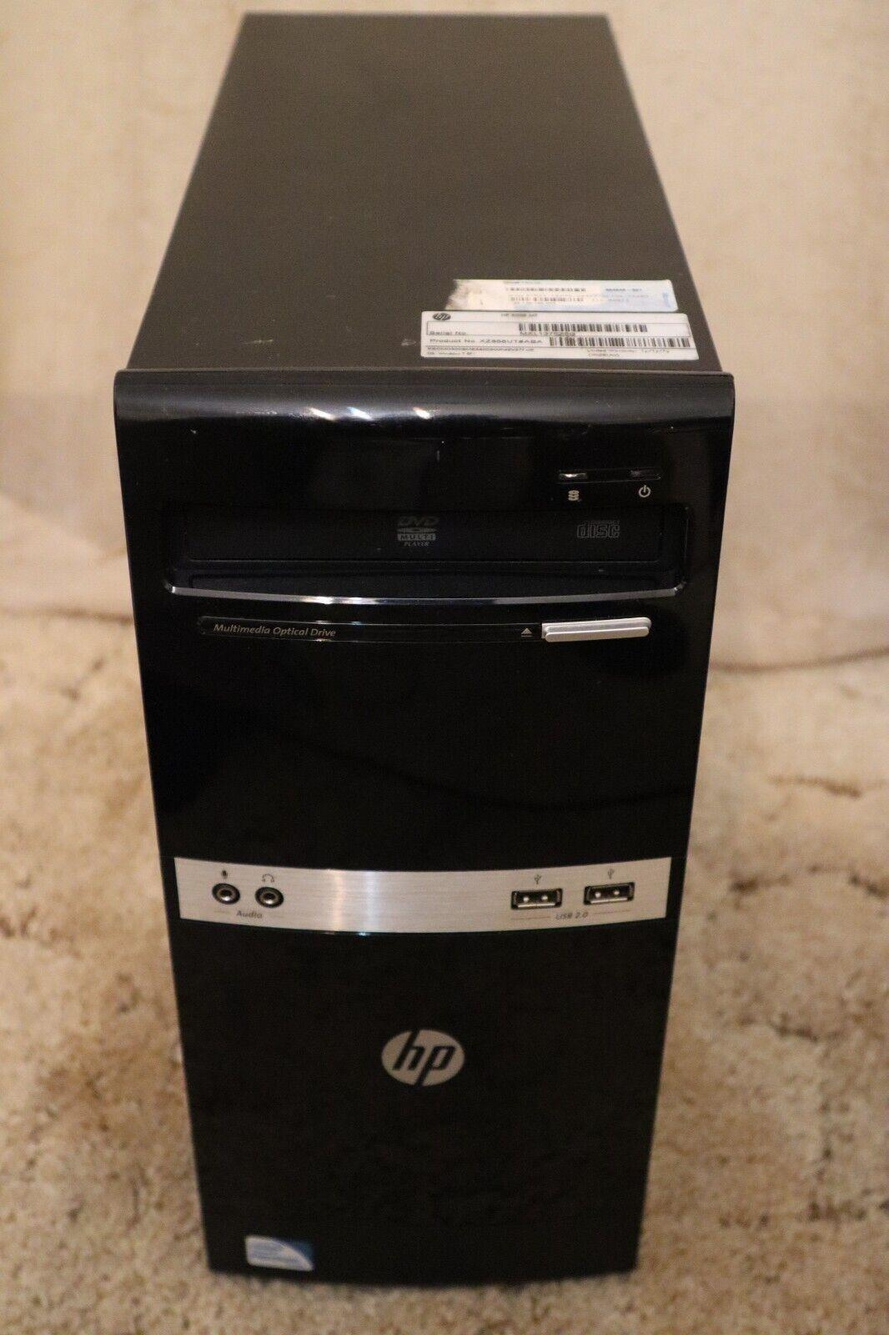computer_tower: (100, 0, 730, 1304)
